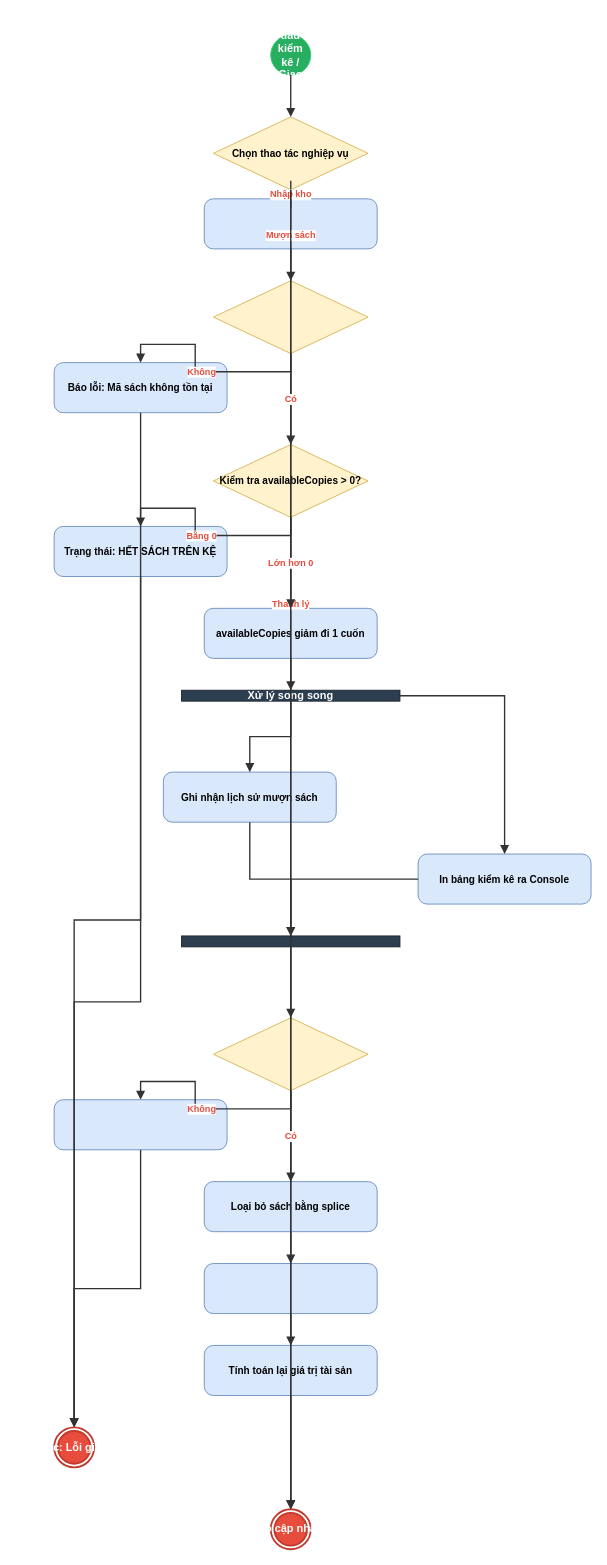
Image size: 607x1565. Some labels were removed from this diagram. Here are the shapes that lost their labels. From the top down, the box of each, then its label:
(203, 198, 377, 249): Thêm sách mới bằng push
(212, 280, 368, 354): Kiểm tra mã sách tồn tại?
(181, 935, 400, 947): Đồng bộ tác vụ
(212, 1017, 368, 1091): Kiểm tra sách hỏng tồn tại?
(53, 1099, 227, 1150): Báo lỗi không tìm thấy sách
(203, 1263, 377, 1314): Cập nhật tổng tài sản kho
